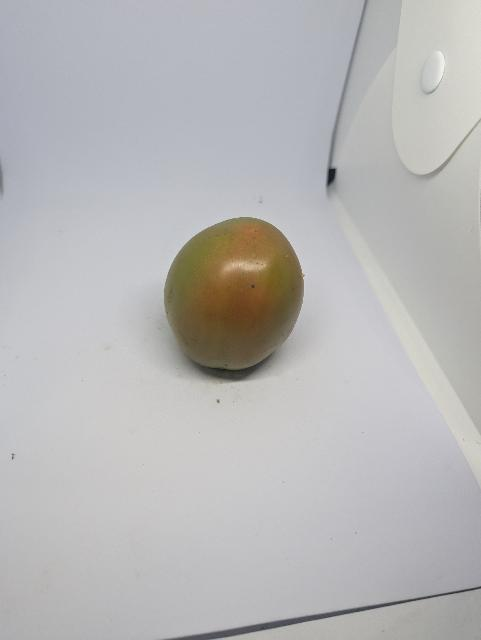breaker: (160, 210, 316, 389)
